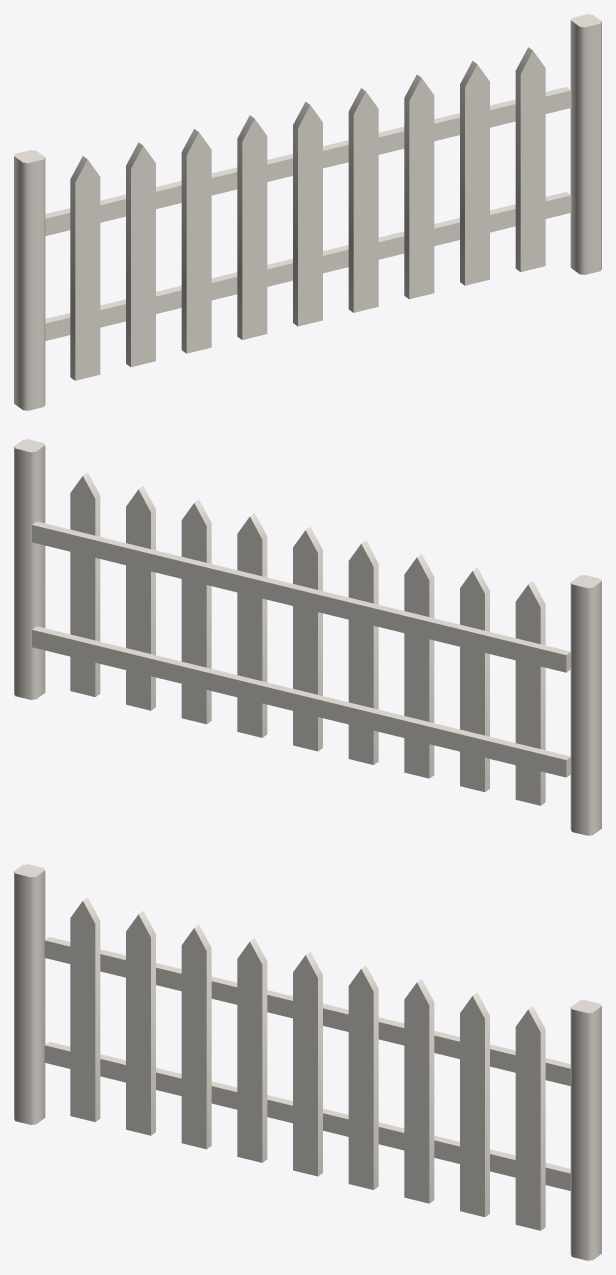
Rendered from garden_fence.glb.
3 views of the same model, one above another, from view 1: azimuth 30°, elevation 25°; view 2: azimuth 150°, elevation 25°; view 3: azimuth 330°, elevation 25° (orthographic).
Visible parts, largest first — view 1: garden_fence; view 2: garden_fence; view 3: garden_fence.
Part boxes in pixels (x1,y1,x2,y2): garden_fence: (14, 14, 601, 410); garden_fence: (14, 439, 601, 835); garden_fence: (14, 864, 601, 1260).
Bounding box in the file's own units: 2.08 × 0.85 × 0.095.
1 material, 1 textured.
